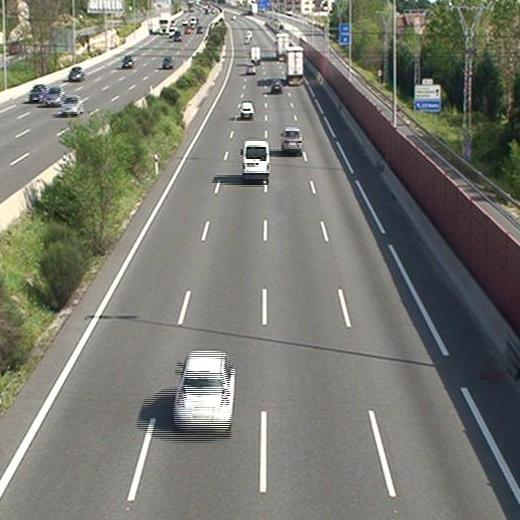car: (172, 352, 235, 429), (281, 127, 303, 151), (240, 100, 254, 119), (271, 81, 282, 92), (247, 62, 256, 72)
small-truck: (250, 46, 260, 64)
truck: (288, 45, 303, 85), (276, 31, 289, 59)
van: (242, 140, 269, 180)
